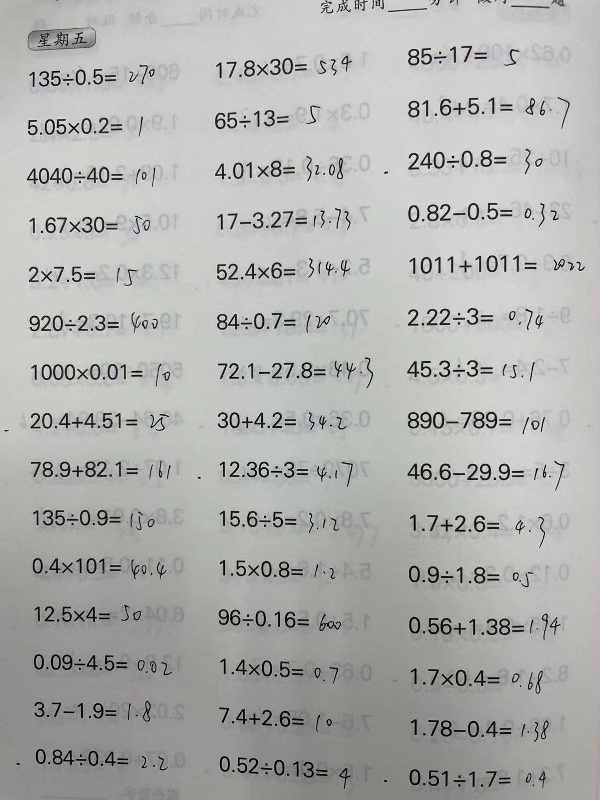equation: (404, 93, 573, 133), (403, 456, 568, 494), (213, 353, 377, 391), (404, 609, 564, 643), (214, 755, 356, 792), (405, 510, 547, 547), (404, 251, 587, 279), (403, 198, 562, 230), (215, 457, 356, 490), (211, 151, 347, 184), (402, 303, 546, 334), (403, 146, 546, 177), (405, 664, 546, 695), (406, 714, 551, 744), (25, 358, 173, 387), (402, 405, 547, 434), (213, 204, 354, 233), (25, 307, 162, 336), (22, 112, 149, 142), (211, 254, 352, 281), (28, 649, 174, 675), (25, 407, 171, 433), (210, 100, 325, 133), (210, 53, 354, 79), (27, 553, 169, 579), (27, 457, 174, 482), (22, 161, 158, 188), (402, 354, 537, 381), (402, 41, 523, 71), (403, 765, 548, 790), (30, 696, 155, 725), (24, 262, 144, 292), (24, 61, 157, 88), (214, 506, 342, 534), (28, 504, 157, 531), (403, 561, 535, 587), (213, 605, 344, 631), (212, 406, 348, 431), (30, 746, 171, 770), (25, 212, 154, 238), (214, 655, 341, 681), (211, 307, 333, 334), (214, 704, 335, 730), (215, 555, 337, 580), (30, 599, 144, 624)
